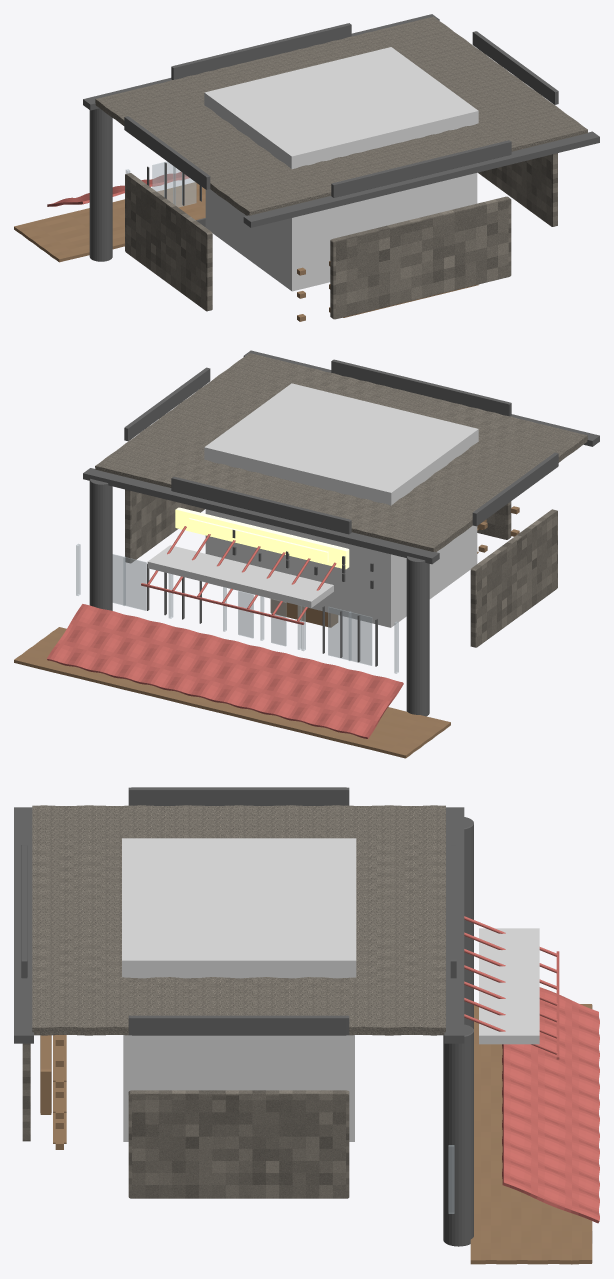
The model's file is SM_Shop.glb.
3 renders of one model, top to bottom at view 1: azimuth 30°, elevation 25°; view 2: azimuth 150°, elevation 25°; view 3: azimuth 270°, elevation 25°, orthographic. The views are drawn at different scales.
Visible parts, largest first — view 1: SM_Shop, COL_Shop_Parapet, COL_Shop_Body; view 2: SM_Shop, COL_Shop_Parapet, COL_Shop_Body, COL_Shop_Awning; view 3: SM_Shop, COL_Shop_Parapet, COL_Shop_Body, COL_Shop_Awning.
Boxes of the visible parts, bbox=[...] form: SM_Shop: bbox=[14, 14, 599, 321]; COL_Shop_Parapet: bbox=[204, 47, 478, 169]; COL_Shop_Body: bbox=[205, 173, 477, 291]; SM_Shop: bbox=[14, 350, 599, 758]; COL_Shop_Parapet: bbox=[204, 383, 478, 505]; COL_Shop_Body: bbox=[205, 509, 477, 627]; COL_Shop_Awning: bbox=[147, 545, 333, 607]; SM_Shop: bbox=[14, 787, 599, 1264]; COL_Shop_Parapet: bbox=[122, 838, 356, 978]; COL_Shop_Body: bbox=[123, 1035, 354, 1141]; COL_Shop_Awning: bbox=[479, 928, 539, 1044].
Size of what is drawn, in the model's own units: 11 by 4.74 by 10.62.
6 materials, 2 textured.
